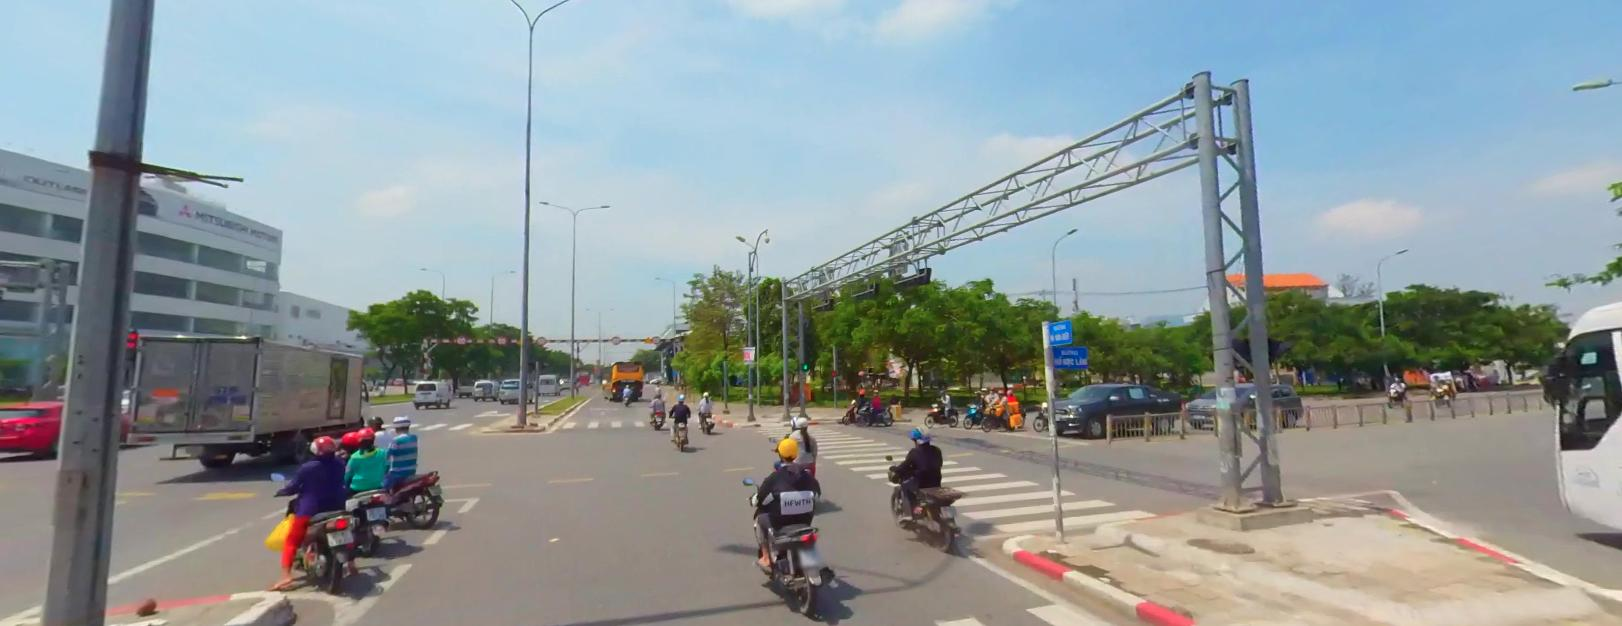Cam con lai: (495, 333, 508, 344), (456, 333, 465, 344), (536, 335, 546, 342), (652, 334, 659, 342), (611, 335, 619, 342)
Nguy hiem: (644, 334, 651, 341)
